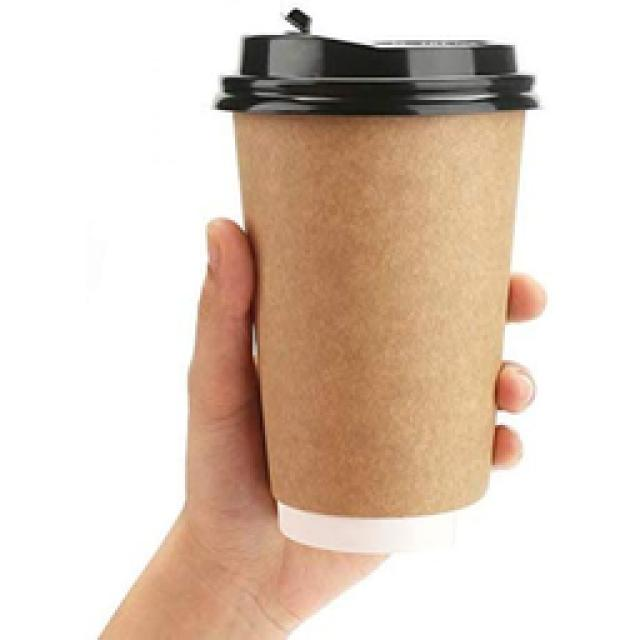paper_cups: (216, 8, 536, 556)
